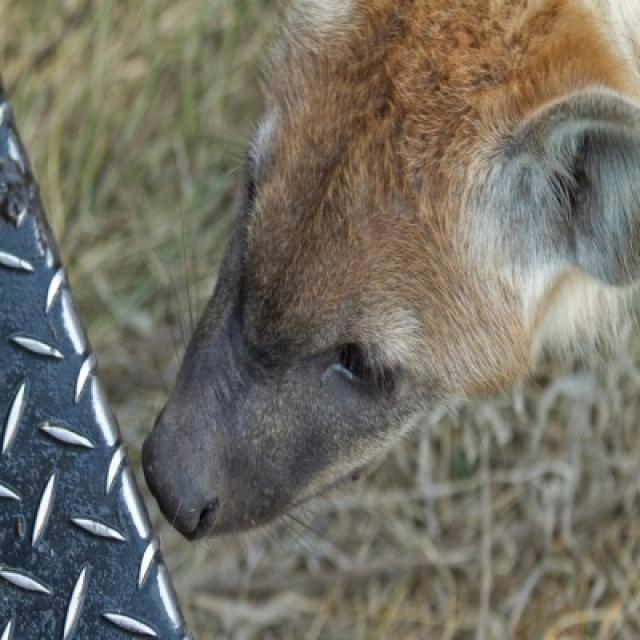hyena: (142, 0, 638, 565)
